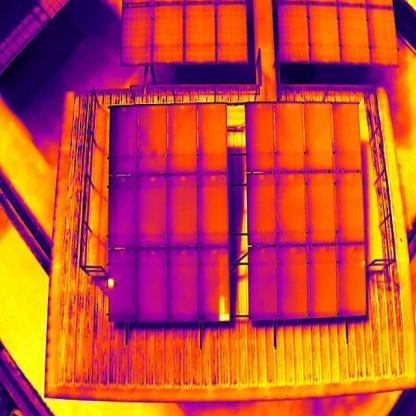anomaly: (216, 295, 230, 321), (104, 276, 118, 288)
